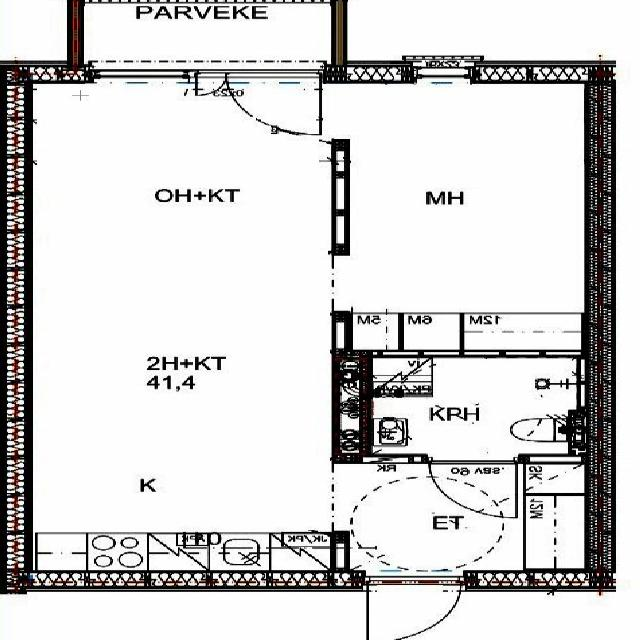door: (225, 60, 320, 142), (367, 570, 460, 640), (429, 454, 516, 517), (196, 60, 225, 101)
